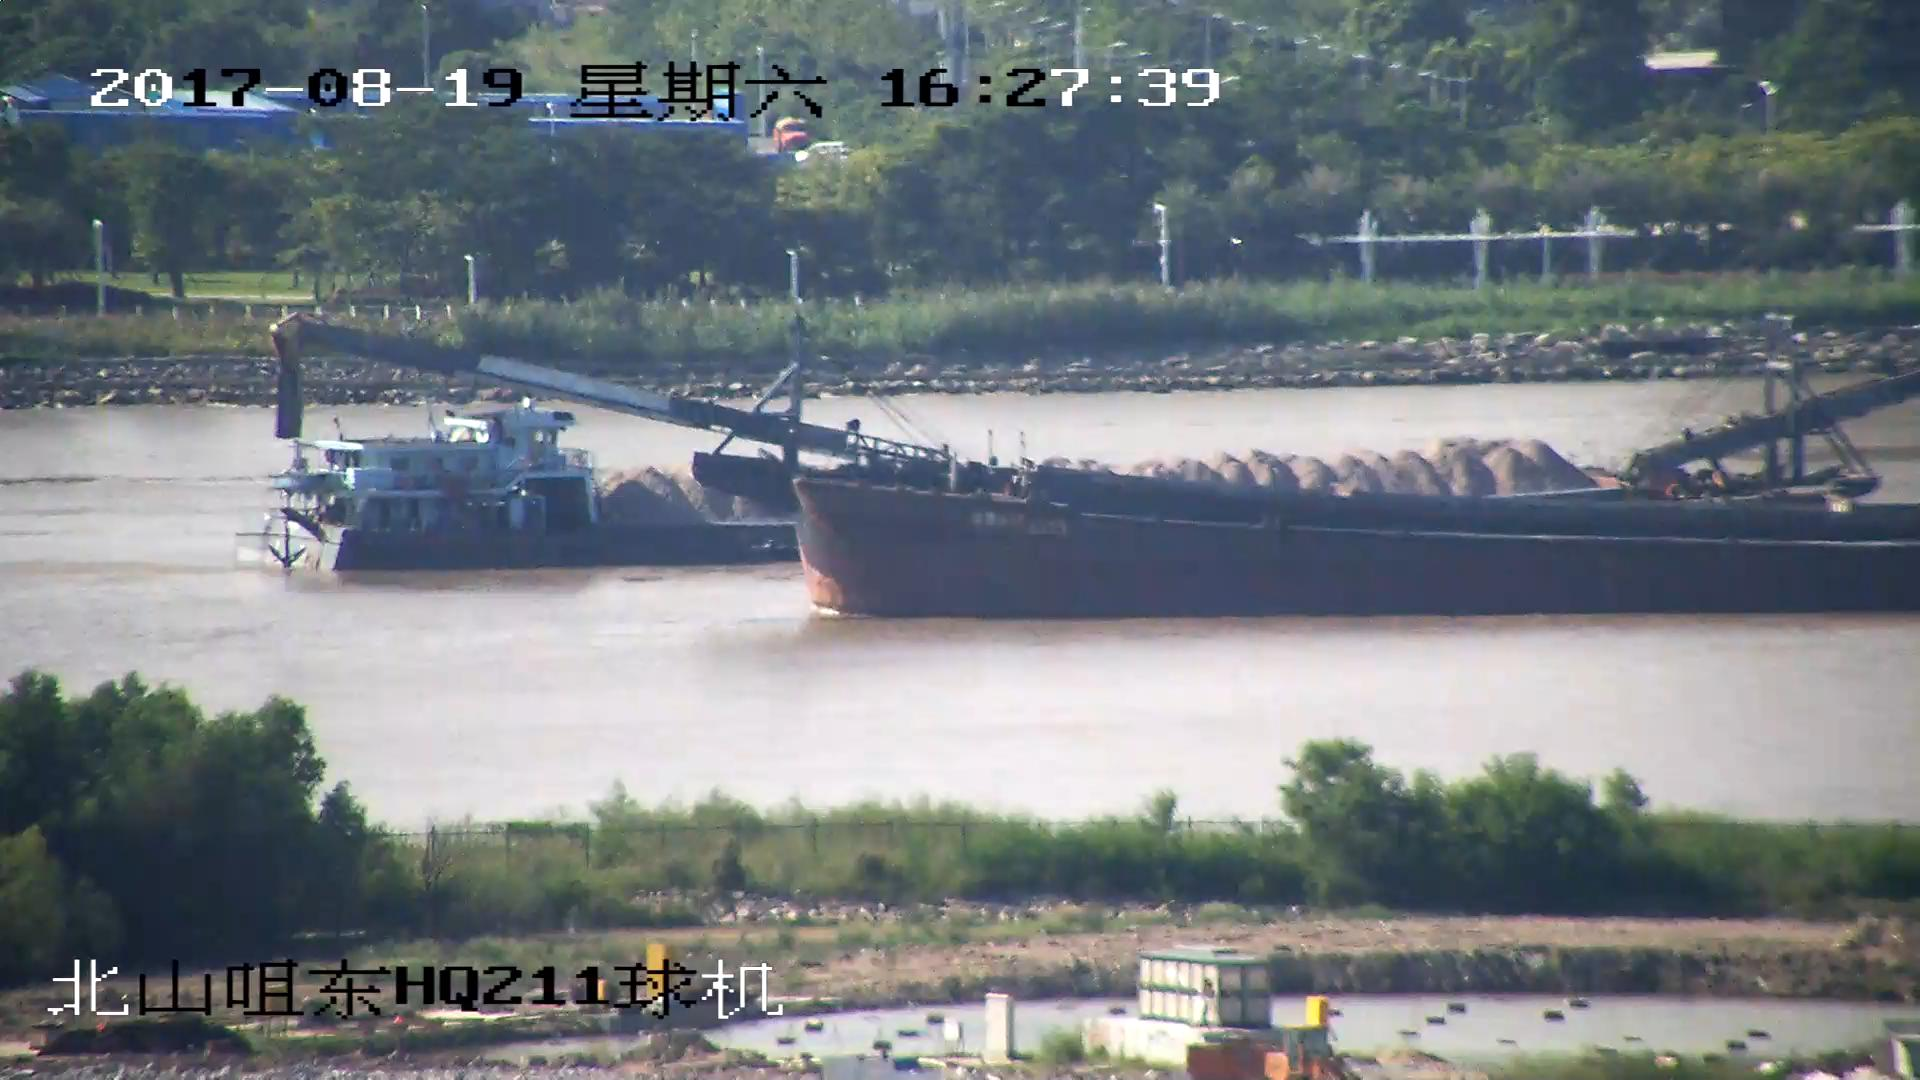bulk cargo carrier: (262, 309, 1920, 619)
ore carrier: (244, 365, 1920, 572)
